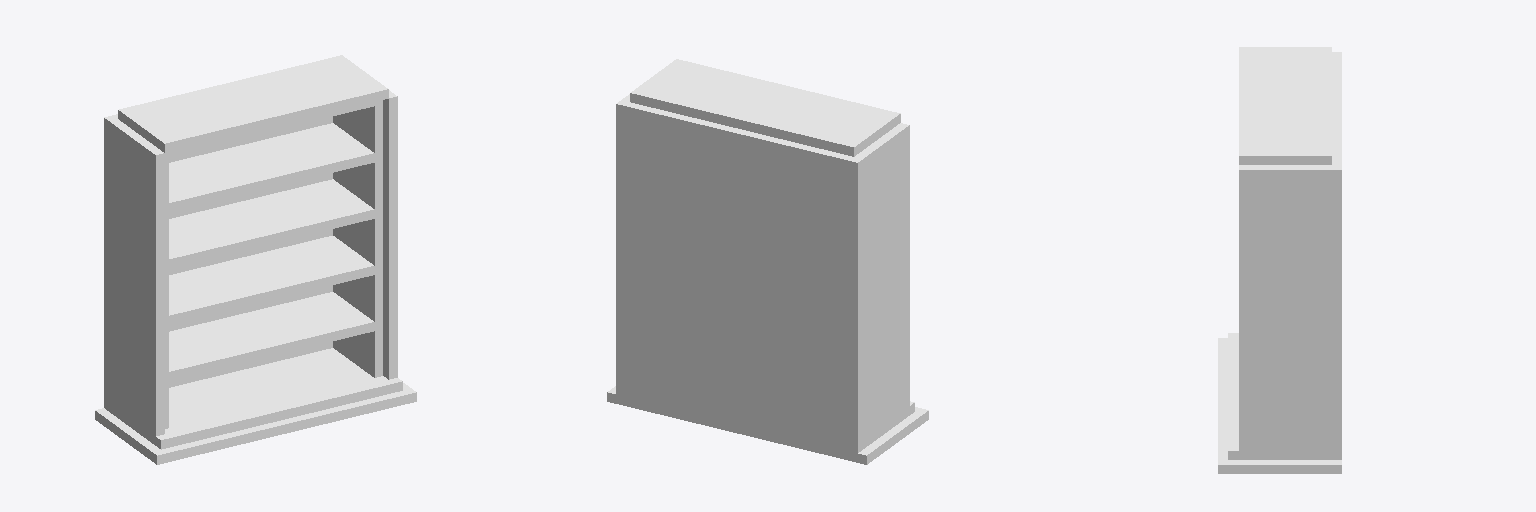
File: Decor-57.obj
3 views of the same model, side by side, from view 1: azimuth 30°, elevation 25°; view 2: azimuth 150°, elevation 25°; view 3: azimuth 270°, elevation 25° (orthographic).
Parts seen in each view (by area): view 1: object 1; view 2: object 1; view 3: object 1.
Part boxes in pixels (left/top/right/bottom): object 1: left=95, top=55, right=416, bottom=464; object 1: left=607, top=59, right=928, bottom=464; object 1: left=1218, top=47, right=1341, bottom=473.
Bounding box in the file's own units: 2.9 × 3.3 × 1.2.